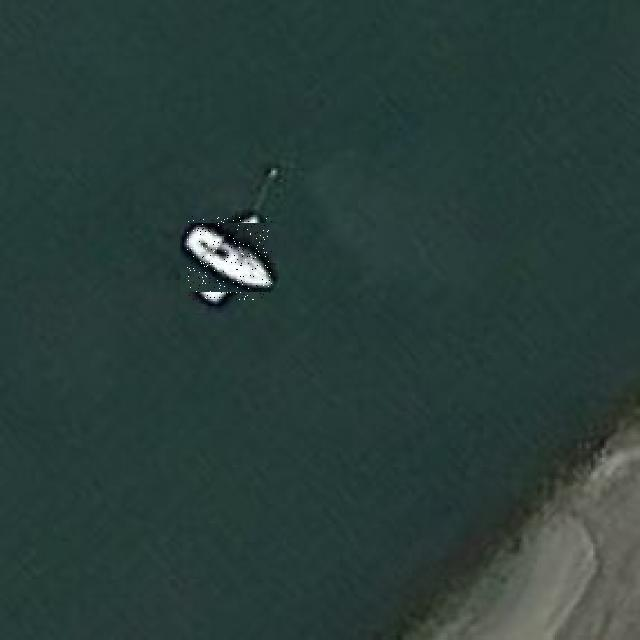boat: (187, 216, 272, 300)
